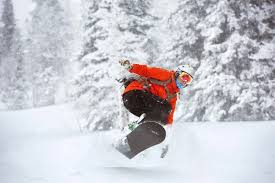snowboarder: (92, 40, 210, 172)
